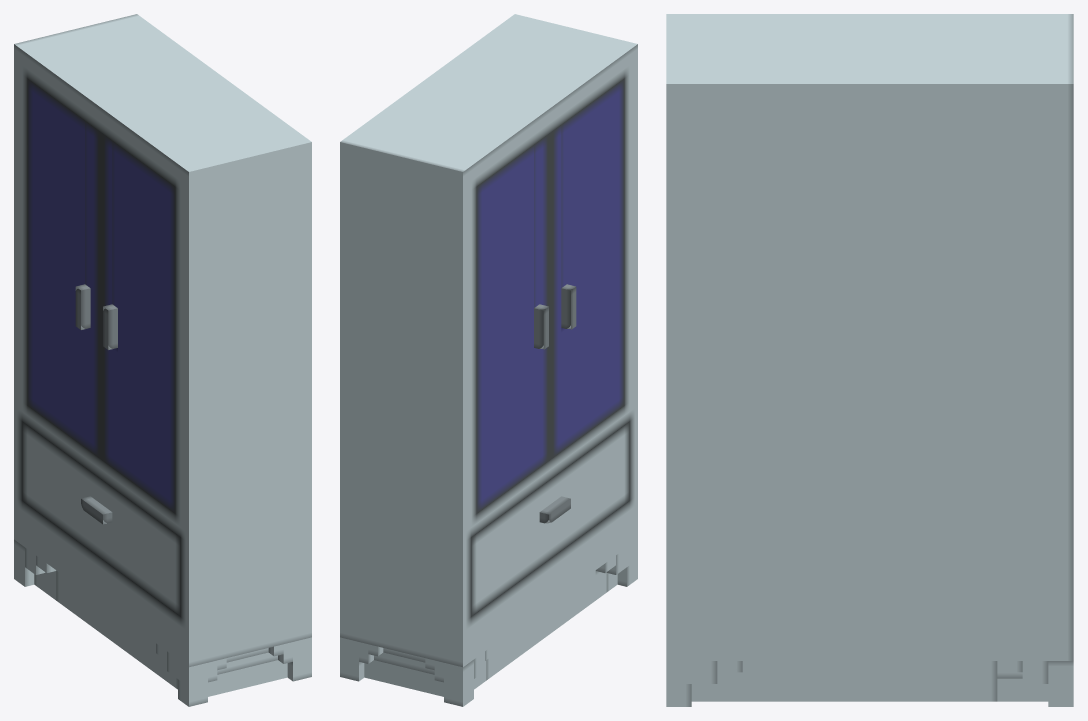
The model's file is szafka_leki.dae.
3 renders of one model, left to right at view 1: azimuth 30°, elevation 25°; view 2: azimuth 150°, elevation 25°; view 3: azimuth 270°, elevation 25°, orthographic. The views are drawn at different scales.
Visible parts, largest first — view 1: Content; view 2: Content; view 3: Content.
Boxes of the visible parts, x1,y1,x2,y2 form: Content: (14,14,311,706); Content: (340,14,637,706); Content: (666,14,1073,706).
Size of the model in its own units: 14 by 54 by 32.
Materials: 1 (1 with a texture image).
